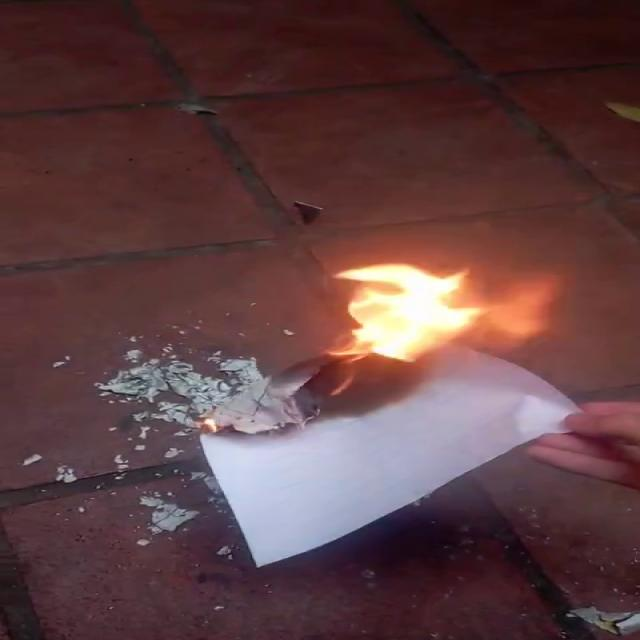Fire_Dangerous: (344, 267, 560, 357)
